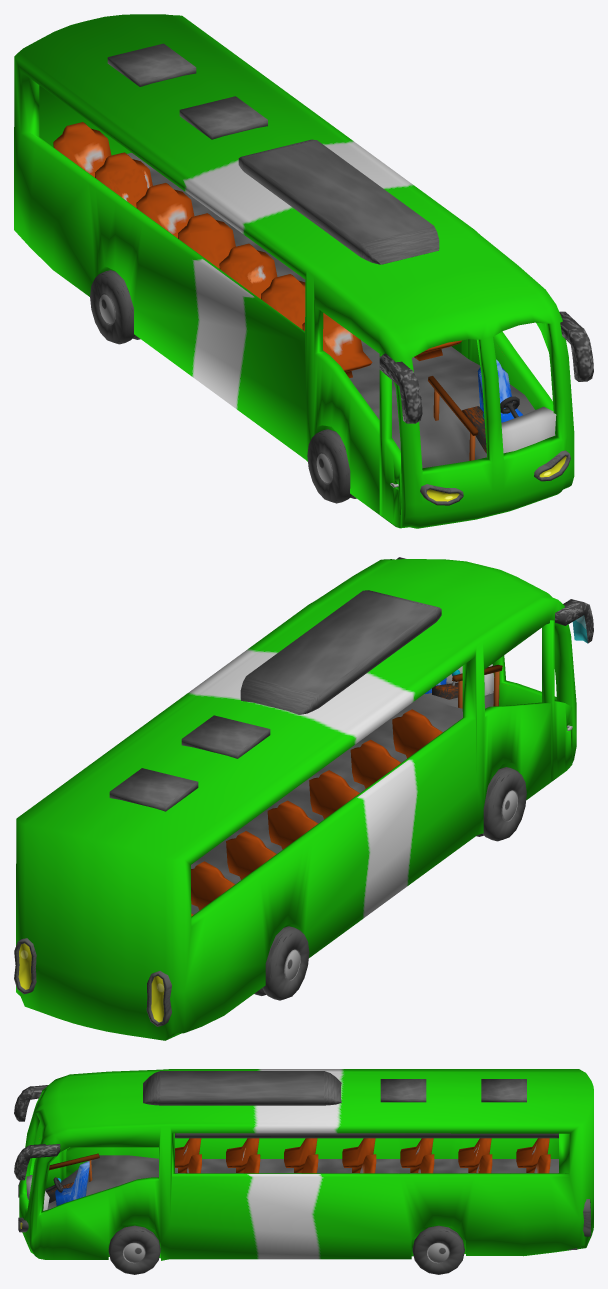
Rendered from Onibus.fbx.
3 renders of one model, top to bottom at view 1: azimuth 30°, elevation 25°; view 2: azimuth 150°, elevation 25°; view 3: azimuth 270°, elevation 25°, orthographic. The views are drawn at different scales.
Parts seen in each view (by area): view 1: Onibus; view 2: Onibus; view 3: Onibus.
Boxes of the visible parts, x1=… form: Onibus: x1=14, y1=14, x2=593, y2=528; Onibus: x1=14, y1=557, x2=593, y2=1040; Onibus: x1=14, y1=1069, x2=593, y2=1274.
Bounding box in the file's own units: 379 × 451 × 1463.
